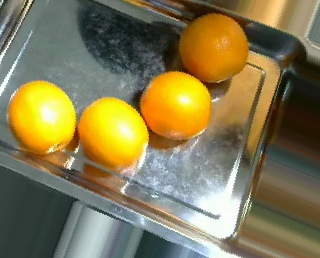Orange: (76, 97, 149, 174), (7, 79, 77, 155), (139, 71, 212, 141), (178, 12, 249, 83)
